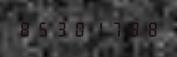eight: (17, 20, 34, 37), (125, 20, 142, 37), (143, 20, 160, 37)
five: (35, 20, 52, 37)
one: (89, 20, 106, 37)
seven: (107, 20, 124, 37)
three: (53, 20, 70, 37)
zero: (71, 20, 88, 37)
